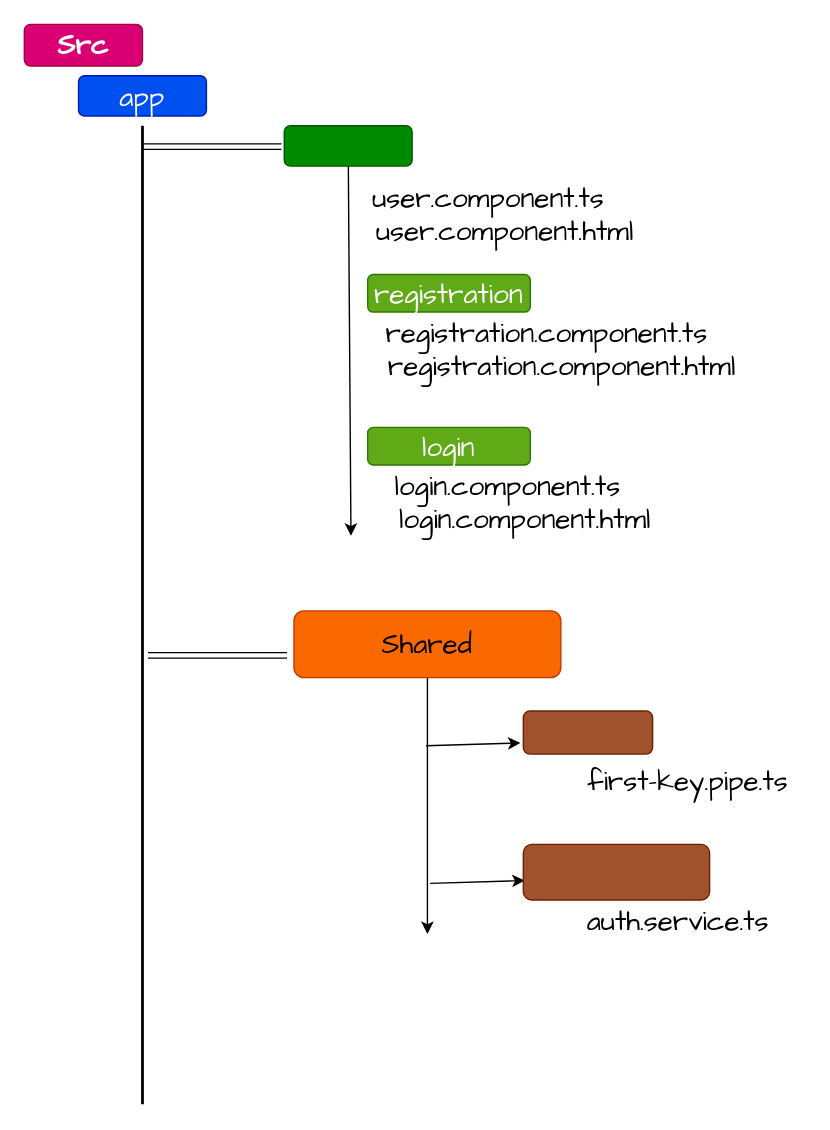
Image size: 830x1130. Some labels were removed from this diagram. Here are the shapes that lost their labels. From the top down, the box of each, then its label:
(283, 124, 412, 166): user
(522, 710, 653, 754): pipes
(522, 843, 710, 900): services
